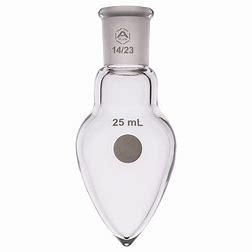Pear shaped flask: (72, 2, 174, 242)
